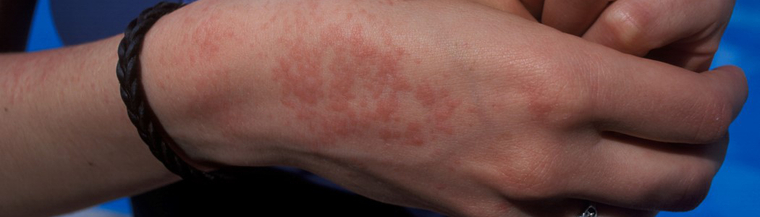Diseased: (159, 6, 473, 194)
